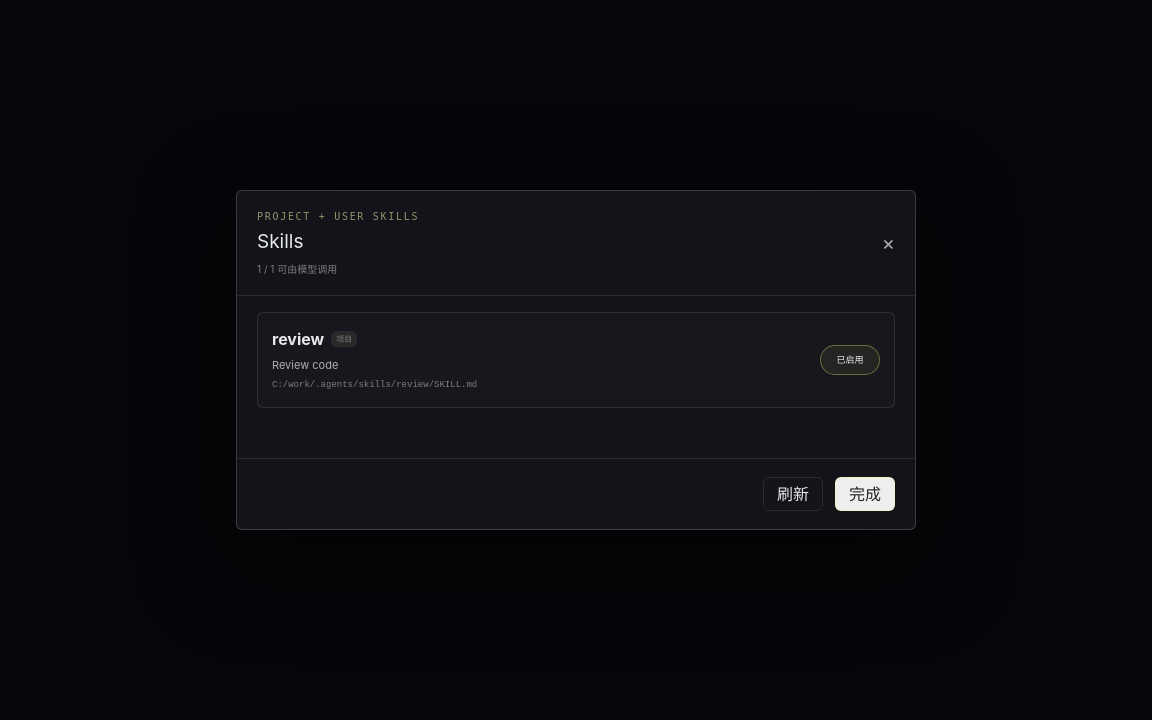
it: SkillsConfig › toggles model invocation using the discovered file path
Click the button with class "skill-toggle". click: (850, 360)
box: [820, 344, 880, 374]
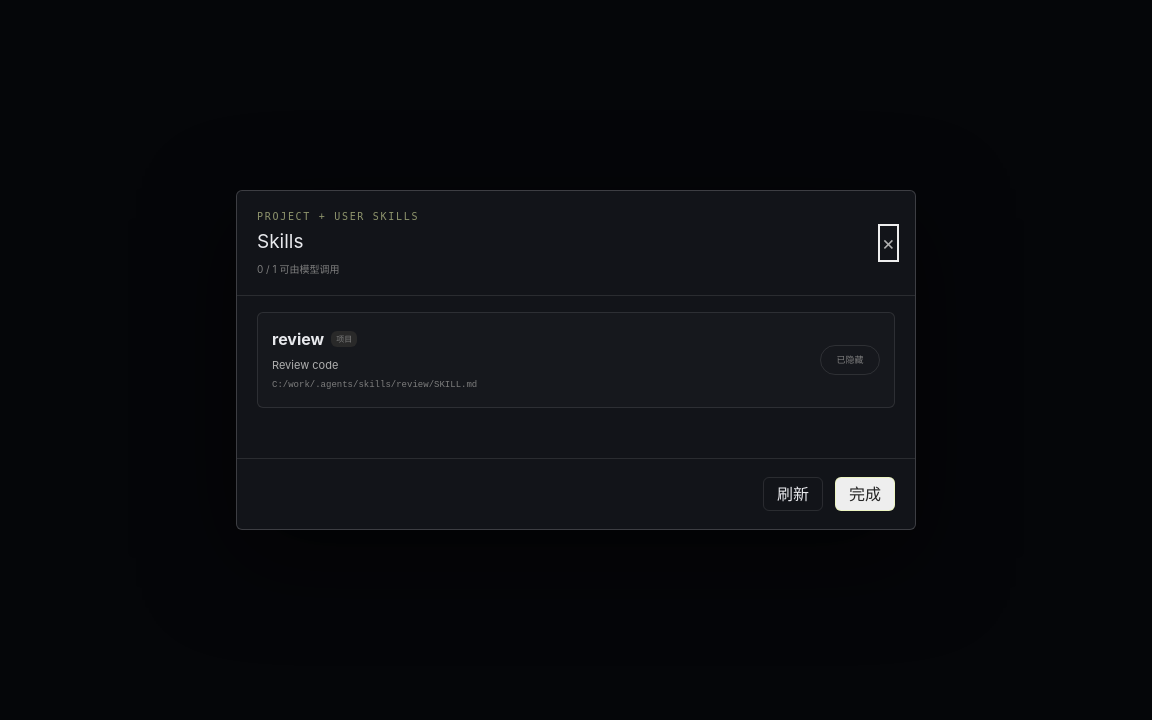
expect the button with class "skill-toggle" reads "已隐藏": met, box [820, 344, 880, 374]
